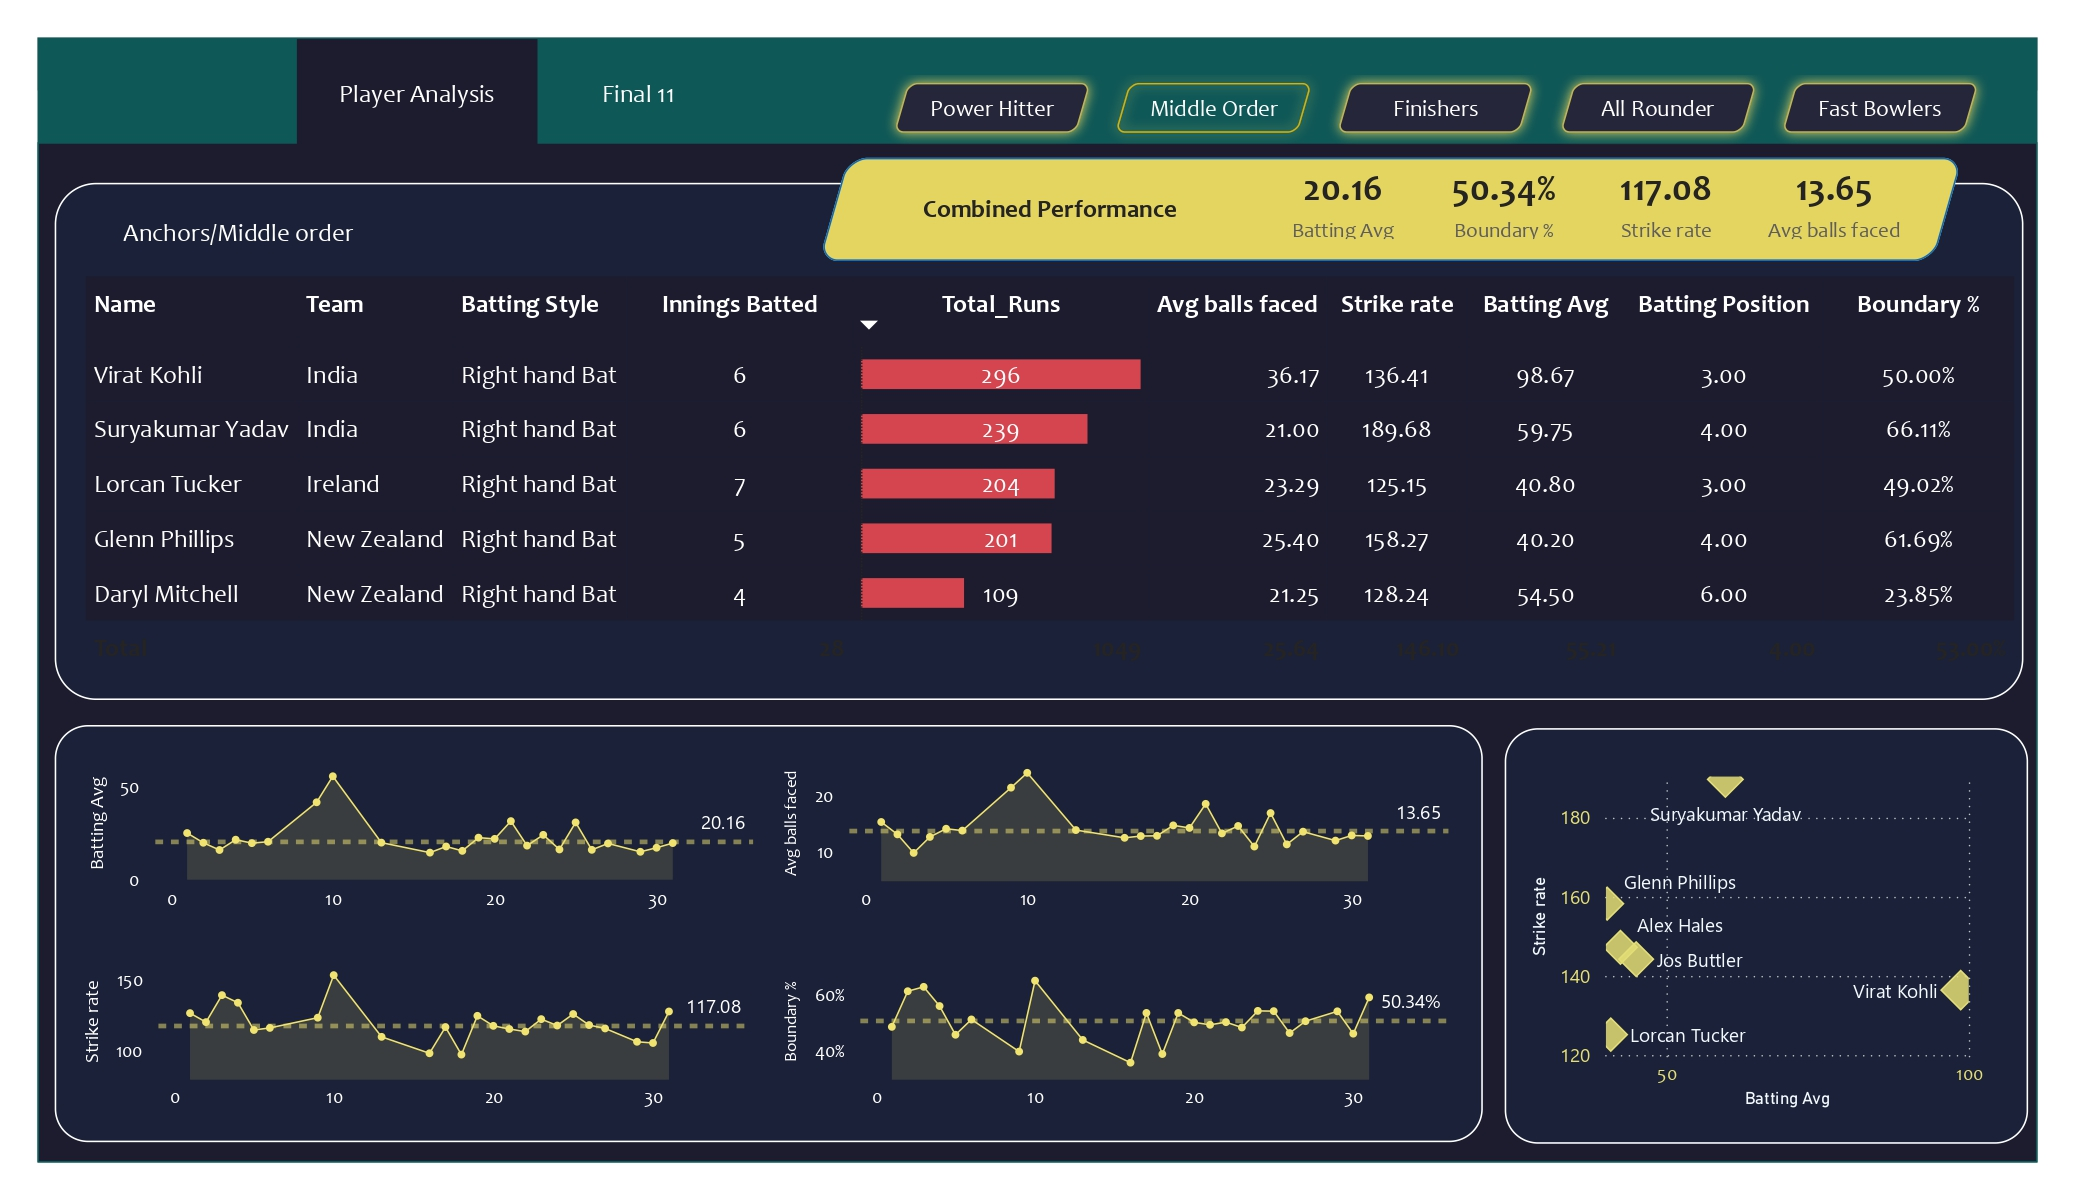

Layout of this report page (visuals, bound fields, positions):
{"tool":"powerbi","page":{"name":"Middle Order","canvas":[1280,720],"ordinal":1},"visuals":[{"type":"shape","box":[0,66.8,1280,653.2],"z":0},{"type":"shape","box":[11,93.3,1259.7,330.7],"z":1000},{"type":"tableEx","fields":{"Values":["dim_players.Name","dim_players.Team","dim_players.Batting Style","Key_measures.Total Innings Batted","Key_measures.Total_Runs","Key_measures.Avg balls faced","Key_measures.Strike rate","Key_measures.Batting Avg","Key_measures.Batting Position","Key_measures.Boundary %"]},"box":[25.2,147.7,1254.8,284],"z":2000},{"type":"scatterChart","fields":{"Category":["dim_players.Name"],"X":["Key_measures.Batting Avg"],"Y":["Key_measures.Strike rate"],"Size":["Key_measures.Total_Runs"]},"box":[951,459.9,299,230.5],"z":3000},{"type":"shape","box":[540.3,20.6,142,48],"z":4000},{"type":"shape","box":[682.3,20.6,142,48],"z":5000},{"type":"shape","box":[824.3,20.6,142,48],"z":6000},{"type":"shape","box":[966.4,20.6,142,48],"z":7000},{"type":"shape","box":[1108.1,20.6,142,48],"z":8000},{"type":"shape","box":[37,103.3,182.5,42.5],"z":10000},{"type":"shape","box":[500.5,76.8,731.4,65.9],"z":11000},{"type":"card","fields":{"Values":["Key_measures.Avg balls faced"]},"box":[1089.1,74.4,122.1,60],"z":12000},{"type":"card","fields":{"Values":["Key_measures.Boundary %"]},"box":[882.4,74.4,112.5,60],"z":13000},{"type":"card","fields":{"Values":["Key_measures.Strike rate"]},"box":[988.5,74.4,107,60],"z":14000},{"type":"card","fields":{"Values":["Key_measures.Batting Avg"]},"box":[781.8,74.4,107,60],"z":15000},{"type":"shape","box":[534.8,91.9,226.4,34.3],"z":16000},{"type":"actionButton","box":[166,1.4,153.7,67.2],"z":17000},{"type":"actionButton","box":[319.7,1.4,129,67.2],"z":18000},{"type":"shape","box":[939,441.9,335,266.6],"z":19000},{"type":"shape","box":[11,440.5,913.9,266.2],"z":20000},{"type":"areaChart","fields":{"Y":["Key_measures.Batting Avg"],"Category":["dim_match_summary.matchDate.Variation.Date Hierarchy.Day"]},"box":[27.7,452.7,435,115],"z":21000},{"type":"areaChart","fields":{"Category":["dim_match_summary.matchDate.Variation.Date Hierarchy.Day"],"Y":["Key_measures.Avg balls faced"]},"box":[473.2,453,435,115.3],"z":22000},{"type":"areaChart","fields":{"Category":["dim_match_summary.matchDate.Variation.Date Hierarchy.Day"],"Y":["Key_measures.Strike rate"]},"box":[25.2,580.3,435,115],"z":23000},{"type":"areaChart","fields":{"Y":["Key_measures.Boundary %"],"Category":["dim_match_summary.matchDate.Variation.Date Hierarchy.Day"]},"box":[473.1,580.3,435,115],"z":24000}]}

Visuals, with their boxes on the page's 1280x720 design canvas (x1, y1, x2, y2). These are canvas units, not pixel positions in the 2075x1200 screenshot, which may show the page scaled, cropped or inside an application window:
shape: bbox=[0, 67, 1280, 720]
shape: bbox=[11, 93, 1271, 424]
tableEx - dim_players.Name x dim_players.Team: bbox=[25, 148, 1280, 432]
scatterChart - dim_players.Name x Key_measures.Batting Avg: bbox=[951, 460, 1250, 690]
shape: bbox=[540, 21, 682, 69]
shape: bbox=[682, 21, 824, 69]
shape: bbox=[824, 21, 966, 69]
shape: bbox=[966, 21, 1108, 69]
shape: bbox=[1108, 21, 1250, 69]
shape: bbox=[37, 103, 220, 146]
shape: bbox=[500, 77, 1232, 143]
card - Key_measures.Avg balls faced: bbox=[1089, 74, 1211, 134]
card - Key_measures.Boundary %: bbox=[882, 74, 995, 134]
card - Key_measures.Strike rate: bbox=[988, 74, 1096, 134]
card - Key_measures.Batting Avg: bbox=[782, 74, 889, 134]
shape: bbox=[535, 92, 761, 126]
actionButton: bbox=[166, 1, 320, 69]
actionButton: bbox=[320, 1, 449, 69]
shape: bbox=[939, 442, 1274, 708]
shape: bbox=[11, 440, 925, 707]
areaChart - Key_measures.Batting Avg x dim_match_summary.matchDate.Variation.Date Hierarchy.Day: bbox=[28, 453, 463, 568]
areaChart - dim_match_summary.matchDate.Variation.Date Hierarchy.Day x Key_measures.Avg balls faced: bbox=[473, 453, 908, 568]
areaChart - dim_match_summary.matchDate.Variation.Date Hierarchy.Day x Key_measures.Strike rate: bbox=[25, 580, 460, 695]
areaChart - Key_measures.Boundary % x dim_match_summary.matchDate.Variation.Date Hierarchy.Day: bbox=[473, 580, 908, 695]
